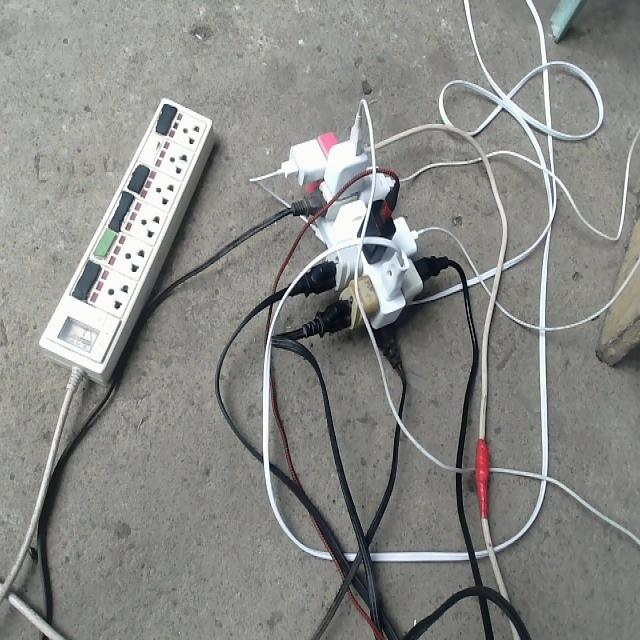-: (279, 101, 449, 379)
